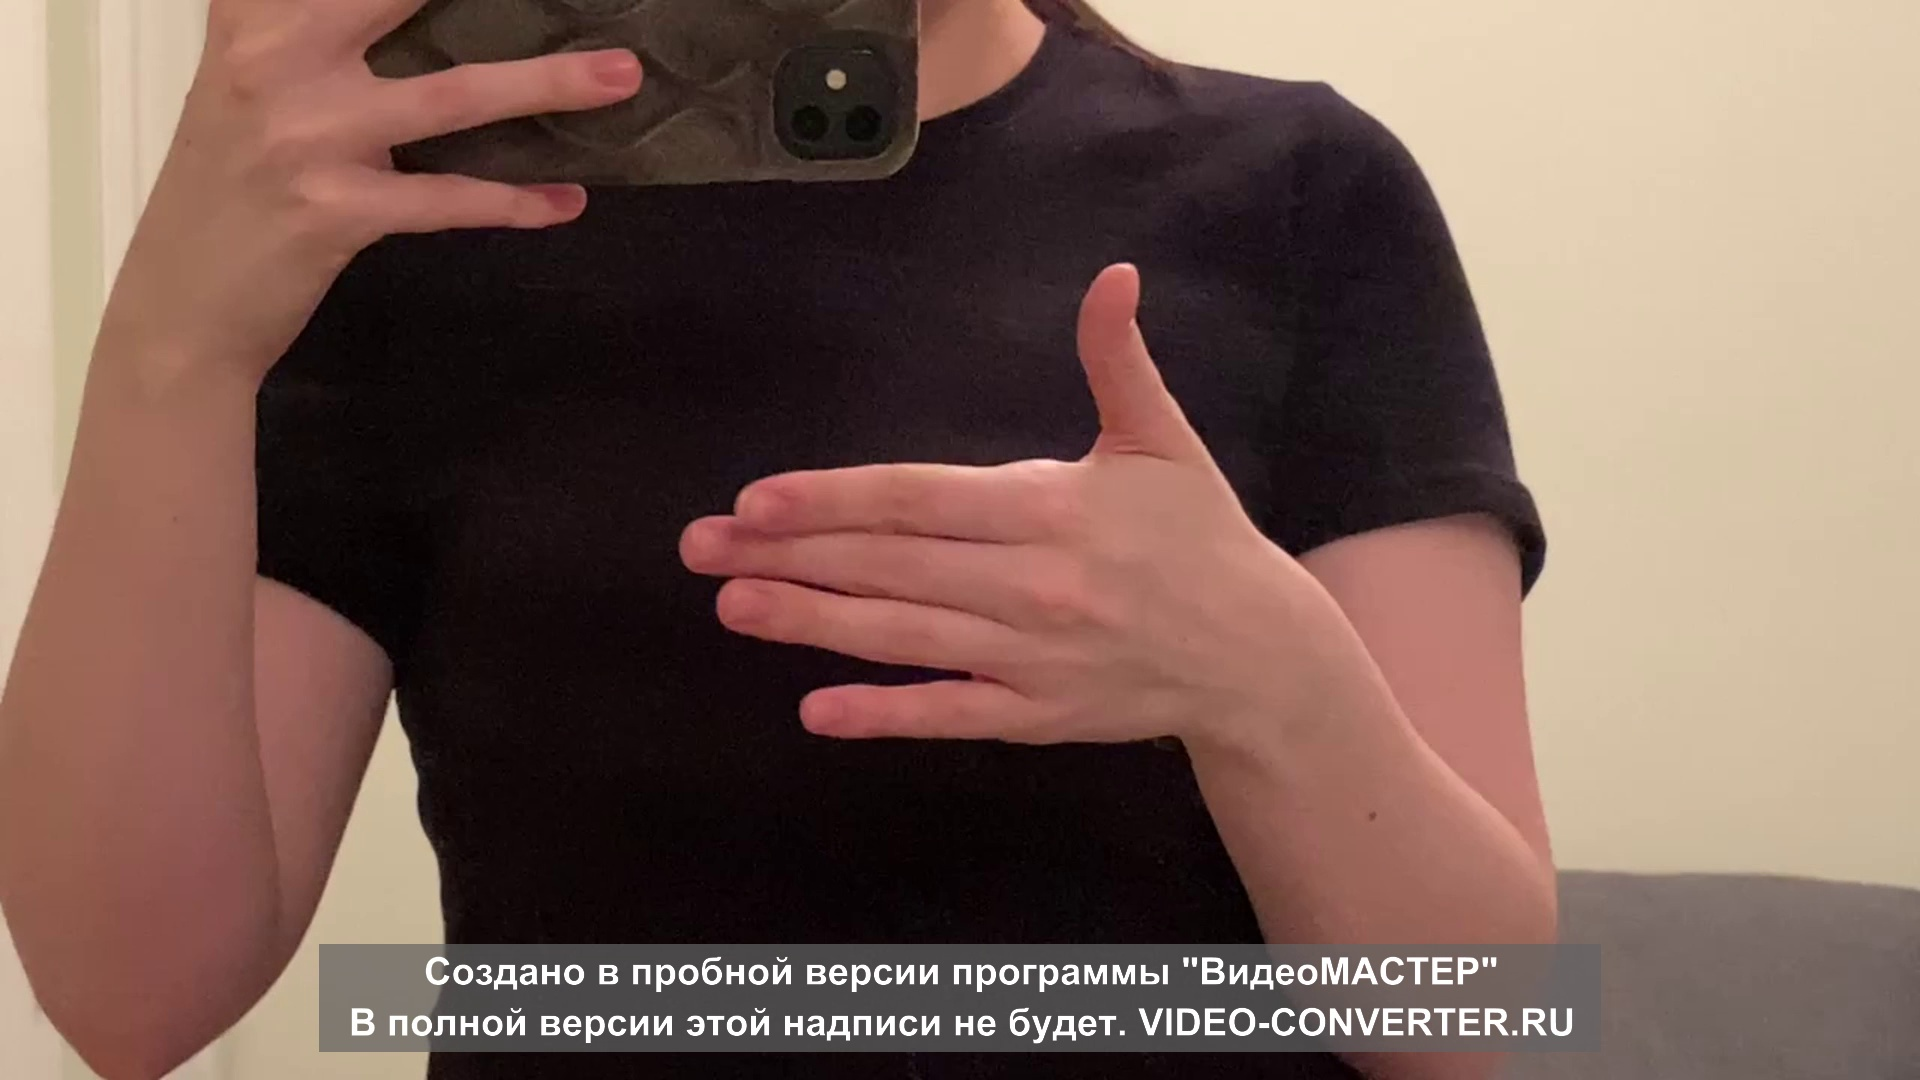Кисть: (678, 257, 1245, 746)
